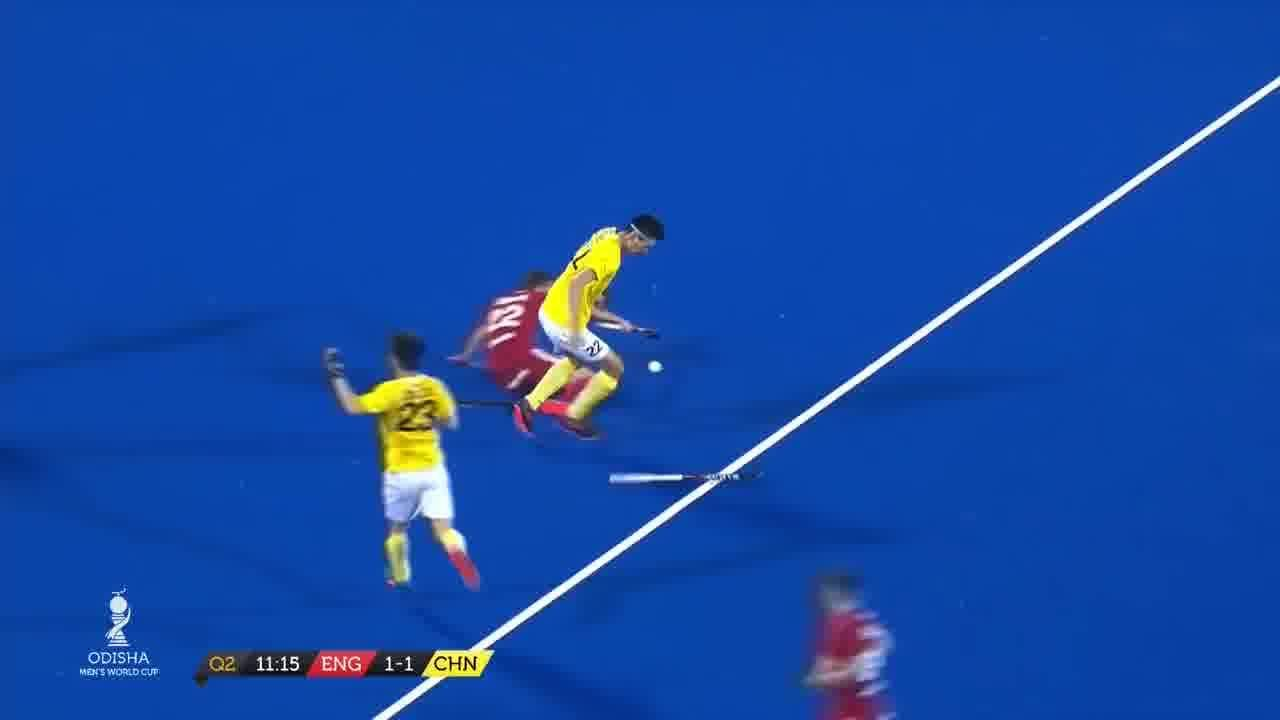ball: (642, 362, 670, 374)
